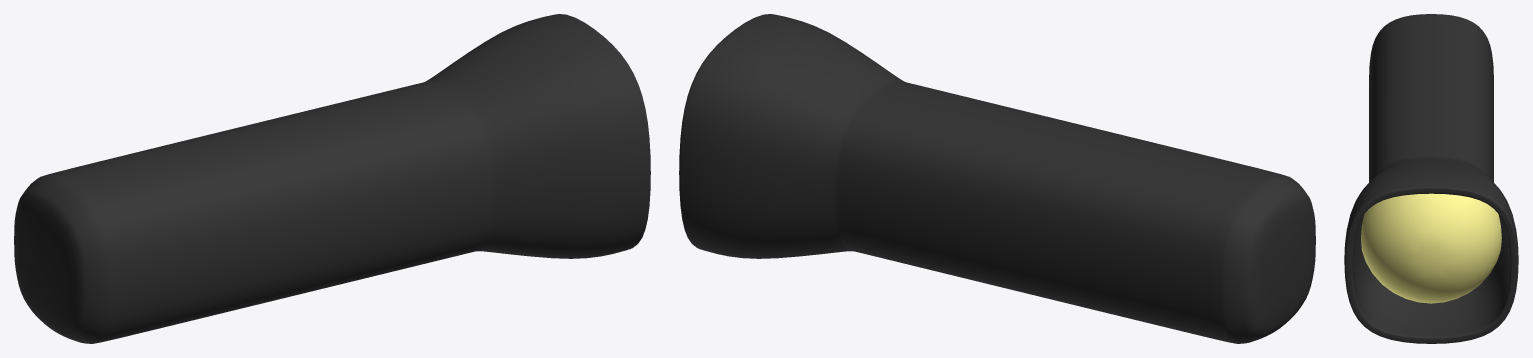
File: Light.fbx
The picture shows the model from 3 angles, left to right: view 1: azimuth 30°, elevation 25°; view 2: azimuth 150°, elevation 25°; view 3: azimuth 270°, elevation 25°; orthographic projection. The views are drawn at different scales.
Visible parts, largest first — view 1: Light; view 2: Light; view 3: Light, pSphere5.
Part boxes in pixels (x1,y1,x2,y2): Light: (14, 14, 650, 343); Light: (679, 14, 1315, 343); Light: (1344, 14, 1518, 343); pSphere5: (1361, 193, 1501, 303).
Bounding box in the file's own units: 4.49 × 1.61 × 1.61.
